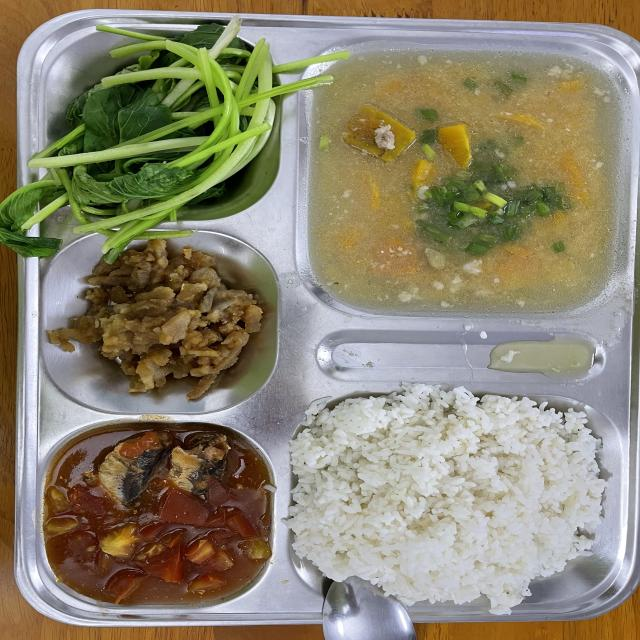canh bi do: (313, 55, 614, 312)
com: (288, 383, 606, 614)
kho tieu: (49, 239, 263, 399)
rau muong: (0, 15, 349, 259)
